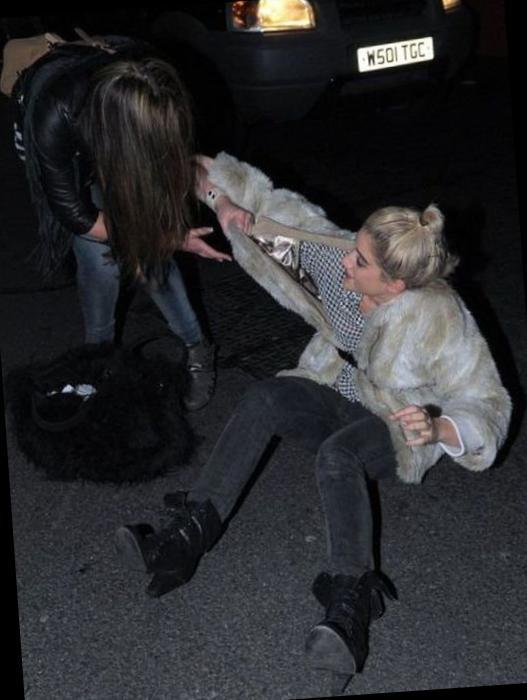Drunk: (346, 232, 385, 297)
